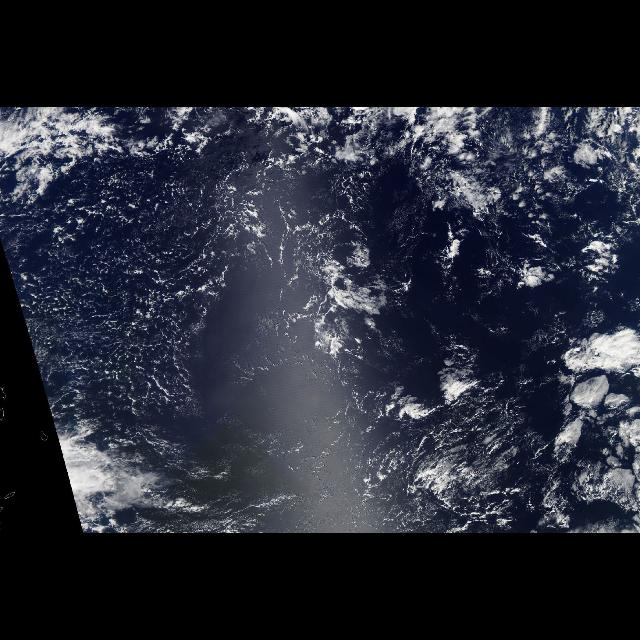Flower: (506, 290, 638, 506)
Gravel: (269, 191, 397, 361)
Sugar: (3, 161, 249, 413)
